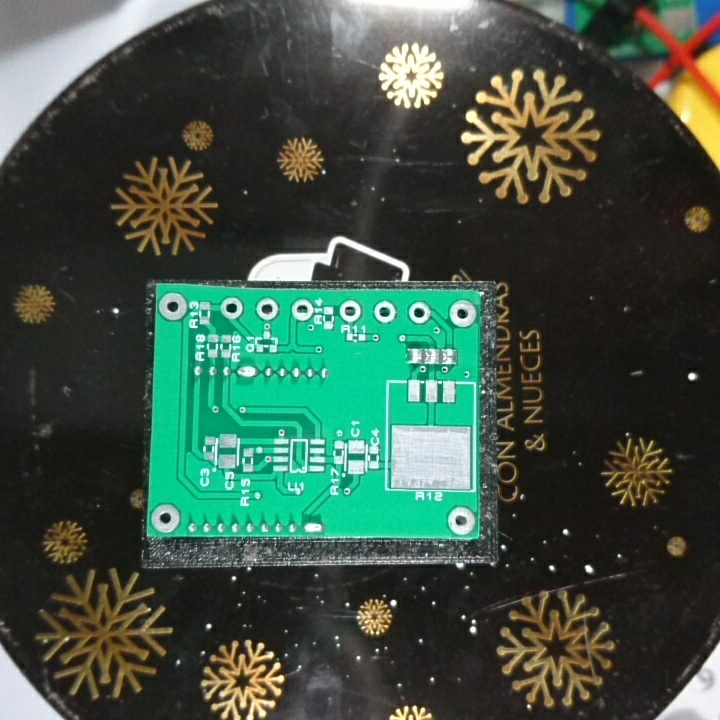F: (150, 500, 182, 535), (157, 290, 189, 324), (446, 504, 477, 538), (446, 297, 477, 330), (289, 298, 316, 325), (371, 299, 398, 325), (405, 300, 433, 325), (336, 298, 364, 323), (217, 296, 246, 320), (254, 298, 280, 322)
P: (236, 363, 259, 382), (301, 519, 326, 536)
